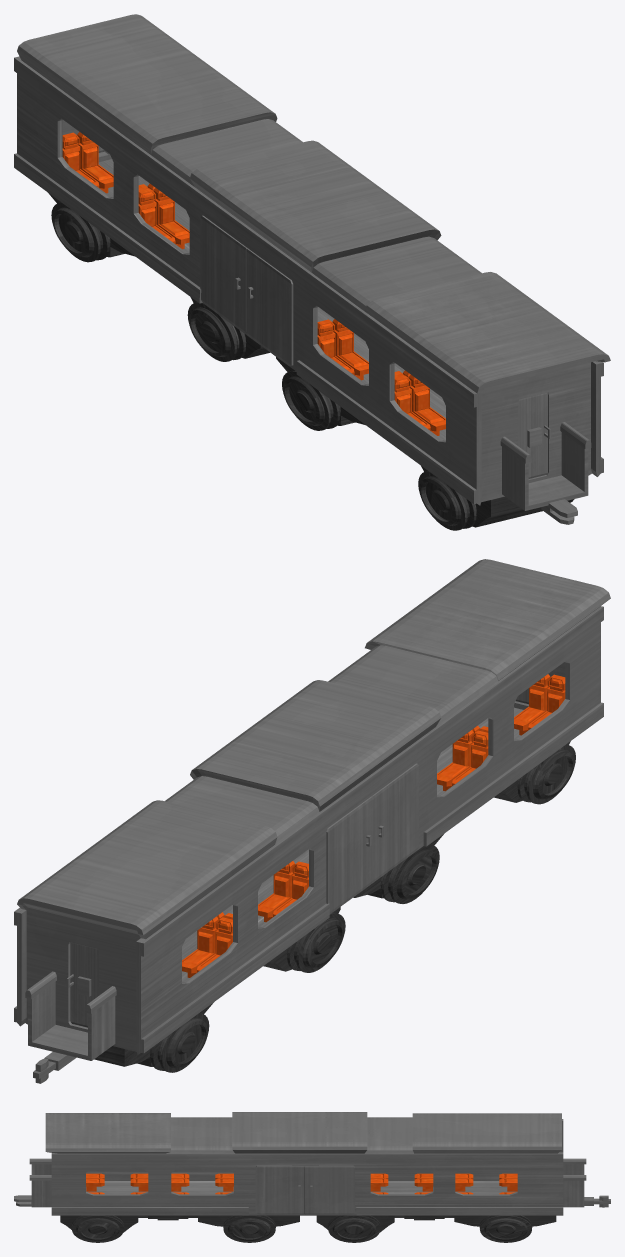
The model's file is TrainWagon.obj.
3 renders of one model, top to bottom at view 1: azimuth 30°, elevation 25°; view 2: azimuth 150°, elevation 25°; view 3: azimuth 270°, elevation 25°, orthographic. The views are drawn at different scales.
Visible parts, largest first — view 1: Cube.044_0, Cube.044_5, Cube.044_4; view 2: Cube.044_0, Cube.044_5, Cube.044_4; view 3: Cube.044_0, Cube.044_5, Cube.044_4.
Boxes of the visible parts, bbox=[...] form: Cube.044_0: bbox=[14, 14, 610, 524]; Cube.044_5: bbox=[48, 193, 574, 530]; Cube.044_4: bbox=[62, 132, 445, 435]; Cube.044_0: bbox=[14, 559, 610, 1083]; Cube.044_5: bbox=[94, 741, 575, 1072]; Cube.044_4: bbox=[182, 674, 565, 977]; Cube.044_0: bbox=[14, 1112, 610, 1215]; Cube.044_5: bbox=[60, 1215, 556, 1242]; Cube.044_4: bbox=[86, 1173, 517, 1194].
Bounding box in the file's own units: 1.4 × 1.79 × 9.67.
6 materials, 6 textured.
